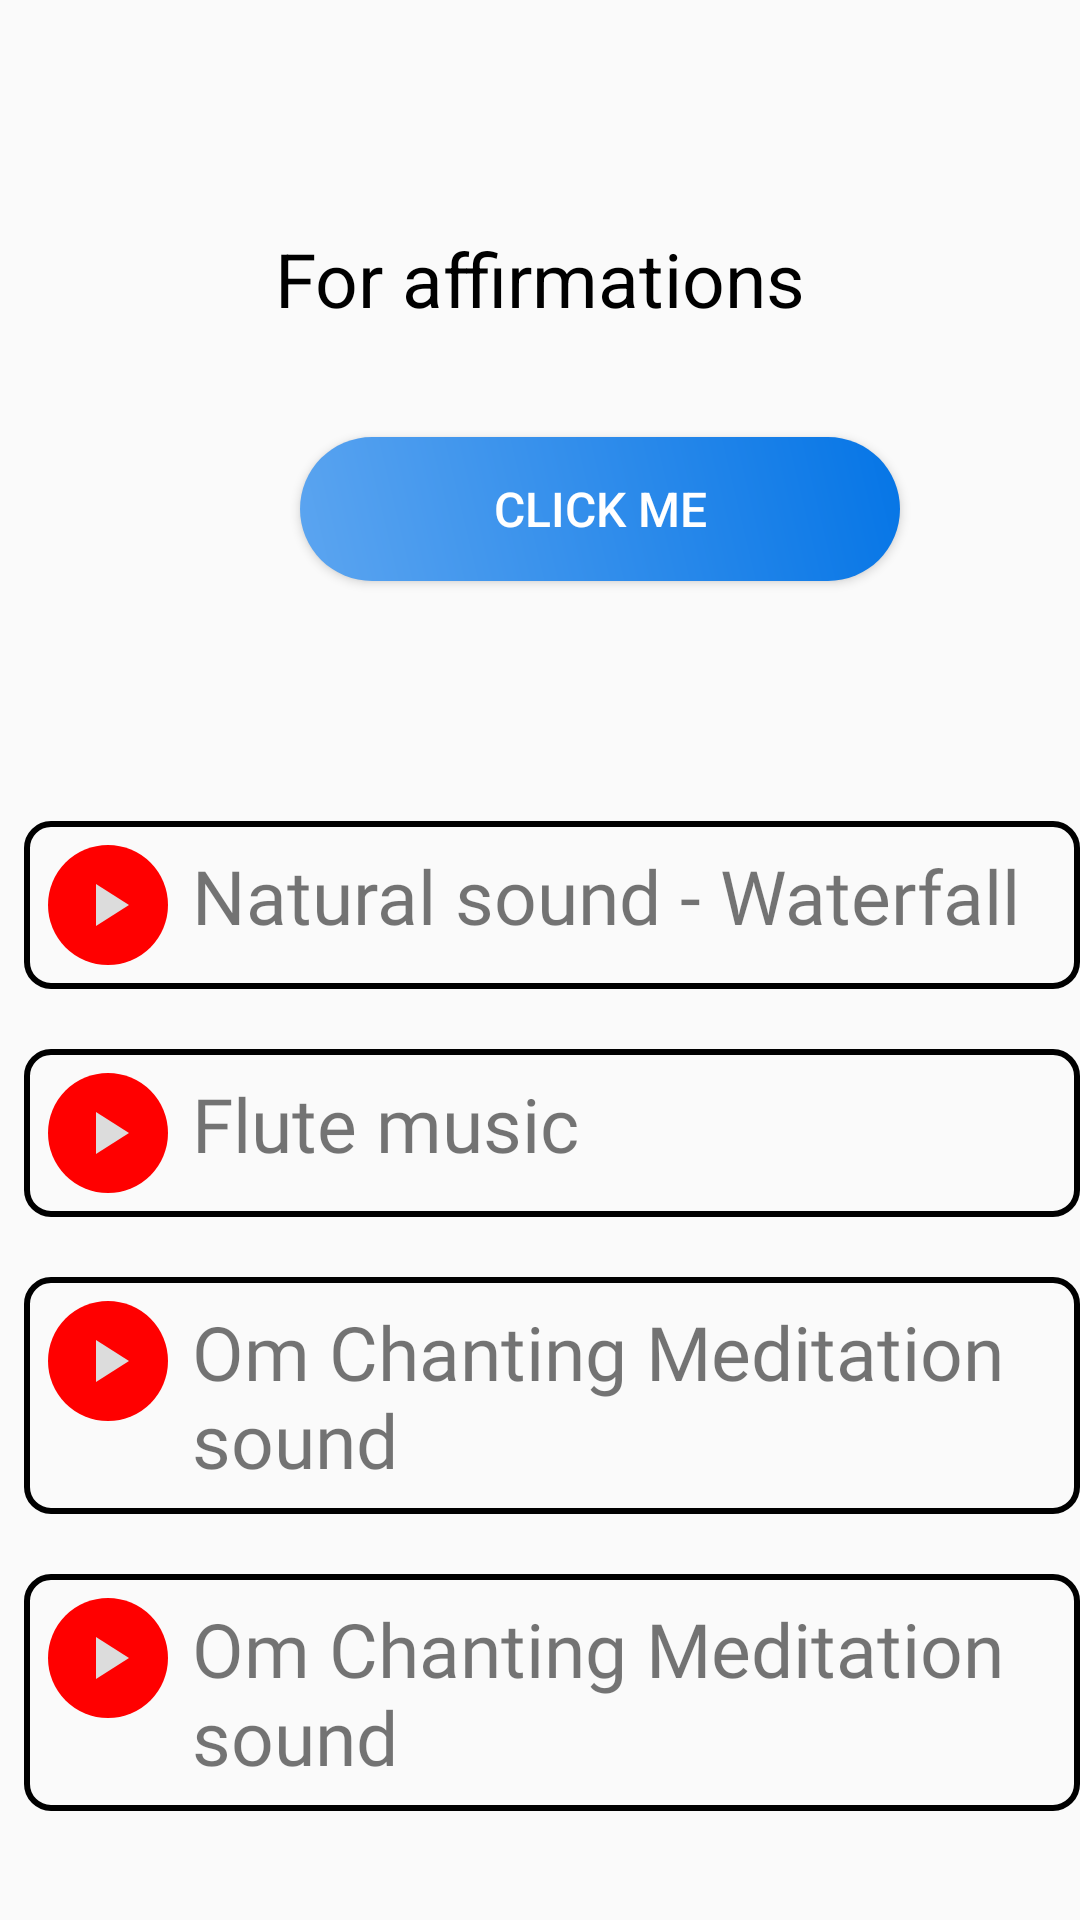

Where icons sit on this 1080x1920 app screen, as (x1, y1, x2, y2):
play: (48, 845, 168, 965), (48, 1073, 168, 1193), (48, 1301, 168, 1421), (48, 1598, 168, 1718)
